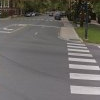crosswalk: (66, 42, 100, 96)
